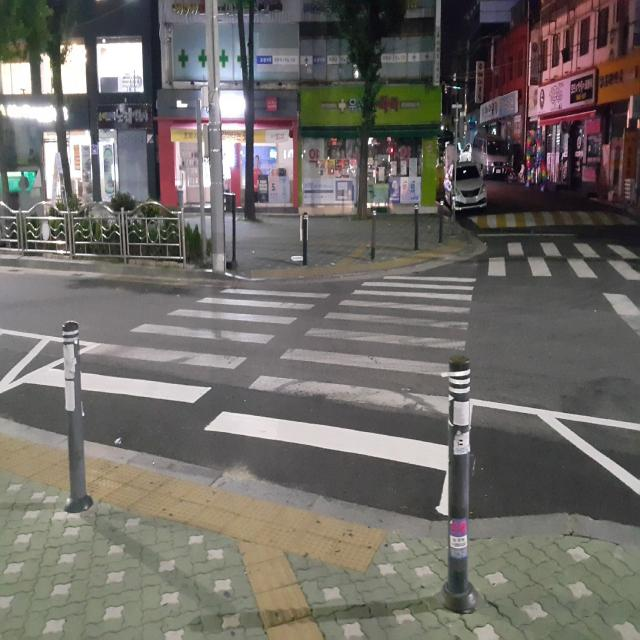횡단보도: (23, 271, 478, 474), (472, 231, 640, 291)
